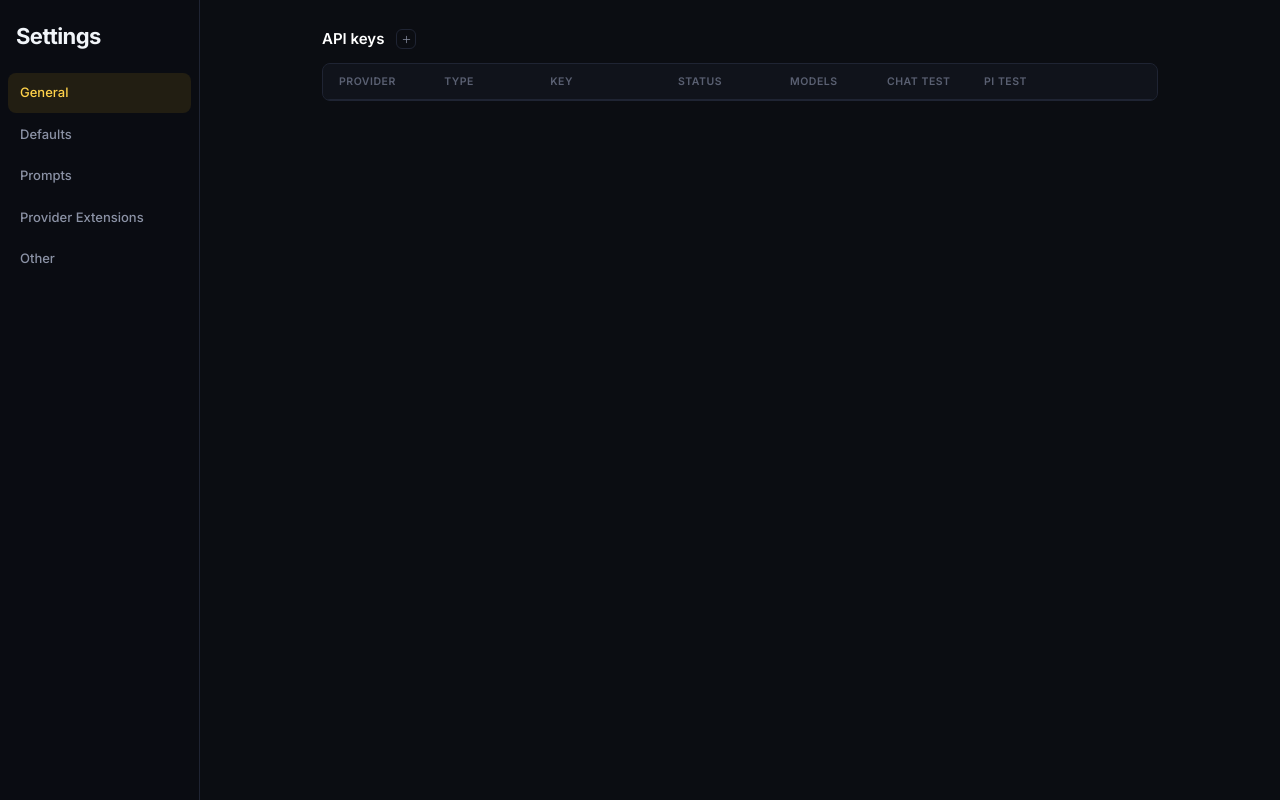
SettingsScreen › renders the Task behavior section
Click the button "Defaults" at (100, 134), box x1=8 y1=114 x2=191 y2=154
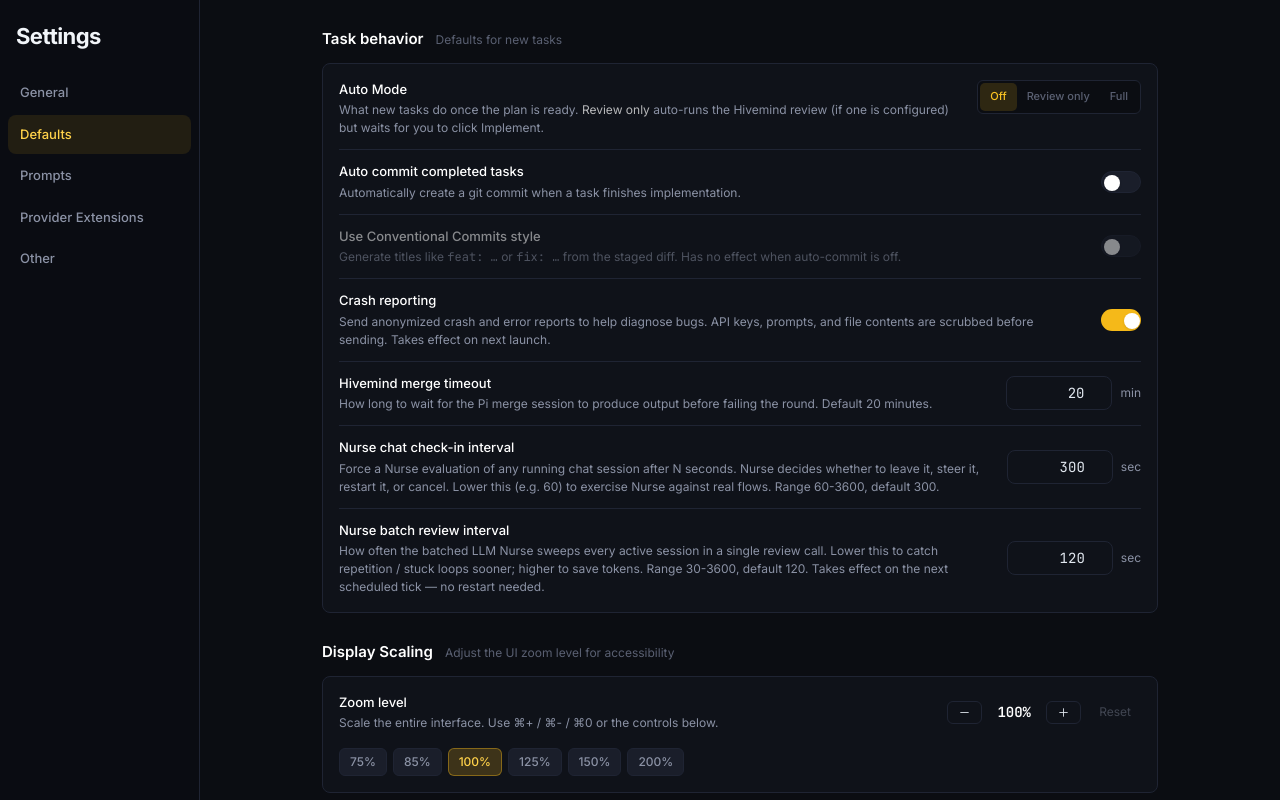
Check: the heading "Task behavior" is shown, box x1=322 y1=28 x2=424 y2=50
Check: the text "Auto Mode" is shown, box x1=339 y1=80 x2=407 y2=96
